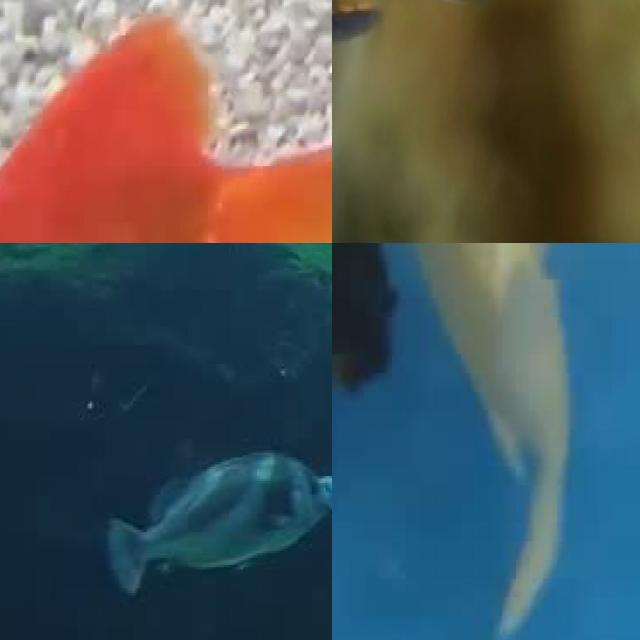fish: (0, 0, 332, 243), (332, 0, 485, 135)
